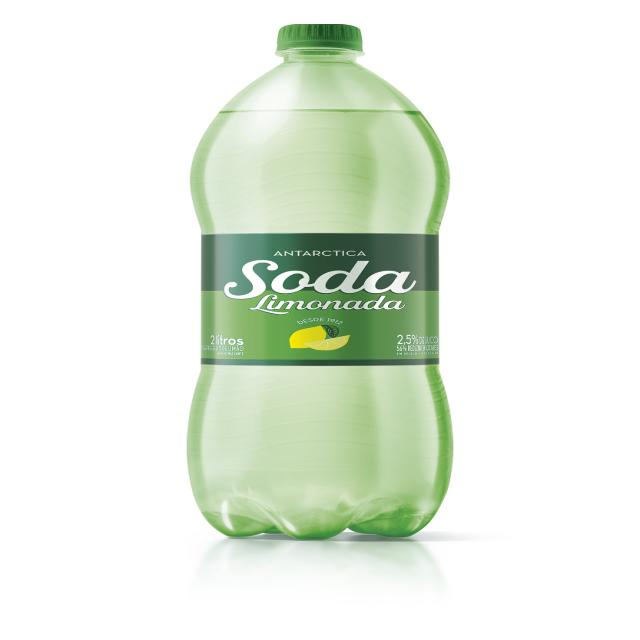bottle: (189, 25, 452, 538)
